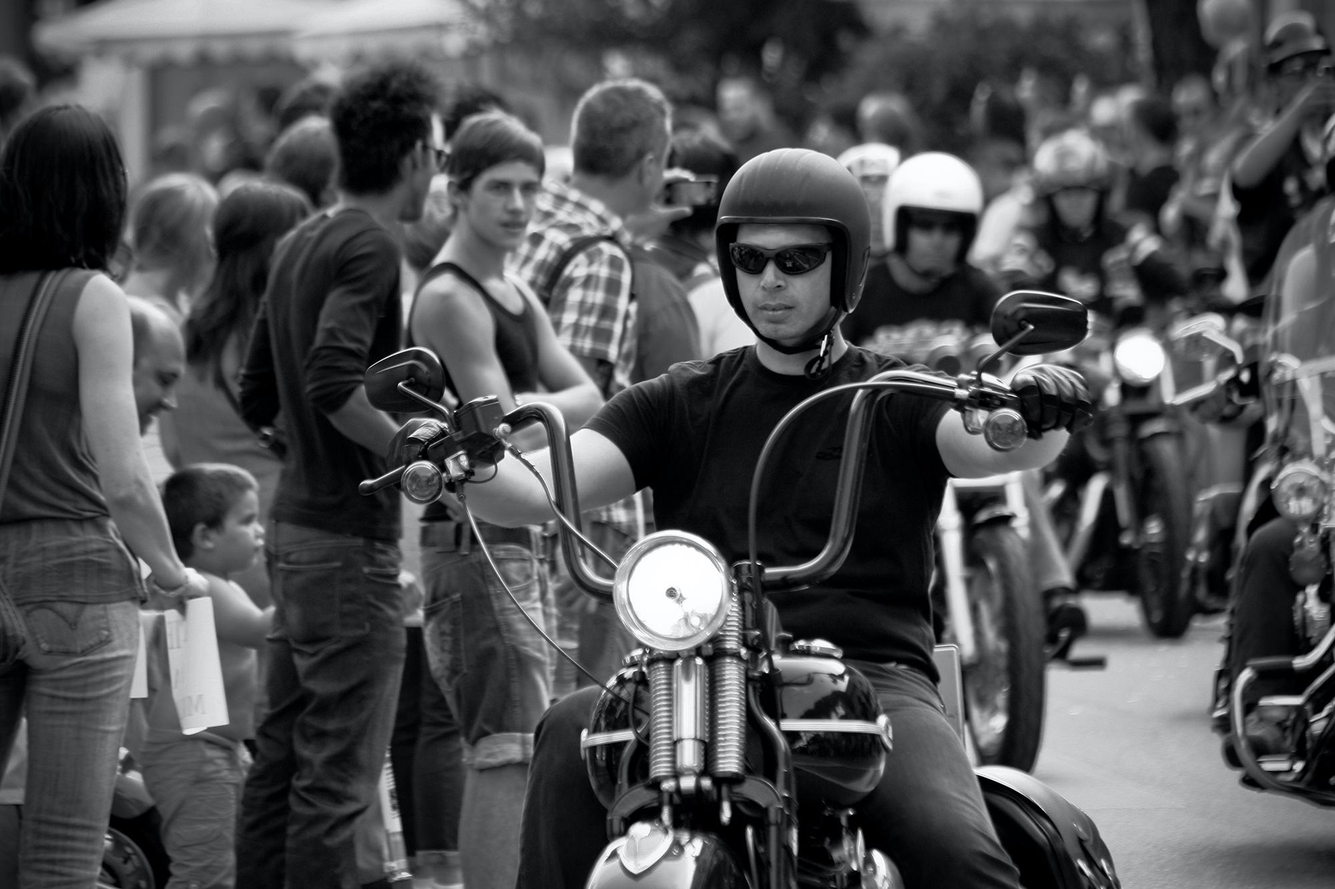helmet: (712, 145, 873, 384), (881, 149, 986, 289)
nohelmet: (444, 107, 547, 263)
